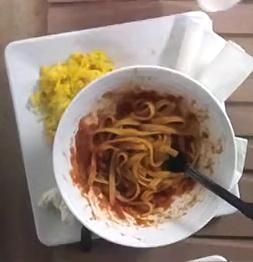pasta: (69, 86, 220, 225)
rice: (29, 49, 113, 136)
